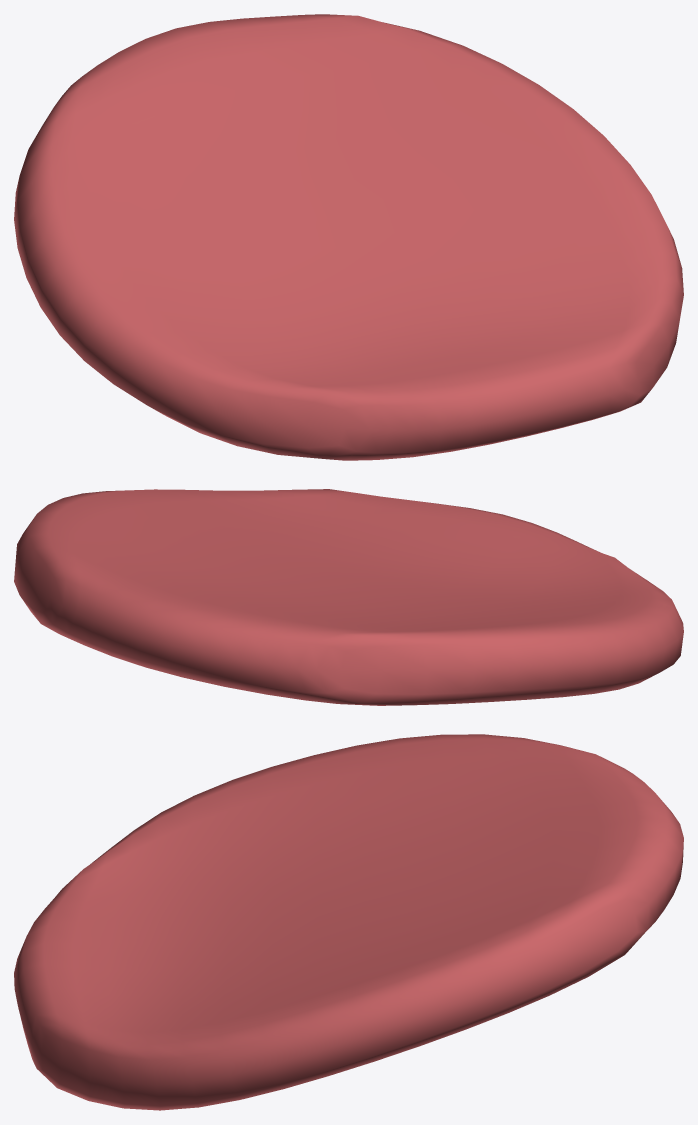
The picture shows the model from 3 angles, top to bottom: view 1: azimuth 30°, elevation 25°; view 2: azimuth 150°, elevation 25°; view 3: azimuth 270°, elevation 25°; orthographic projection.
Parts seen in each view (by area): view 1: 左侧髌前皮下囊; view 2: 左侧髌前皮下囊; view 3: 左侧髌前皮下囊.
Part boxes in pixels (x1,y1,x2,y2): 左侧髌前皮下囊: [14, 14, 683, 460]; 左侧髌前皮下囊: [14, 489, 683, 705]; 左侧髌前皮下囊: [14, 734, 683, 1110].
Size of the model in its own units: 0.0266 by 0.00866 by 0.0268.
